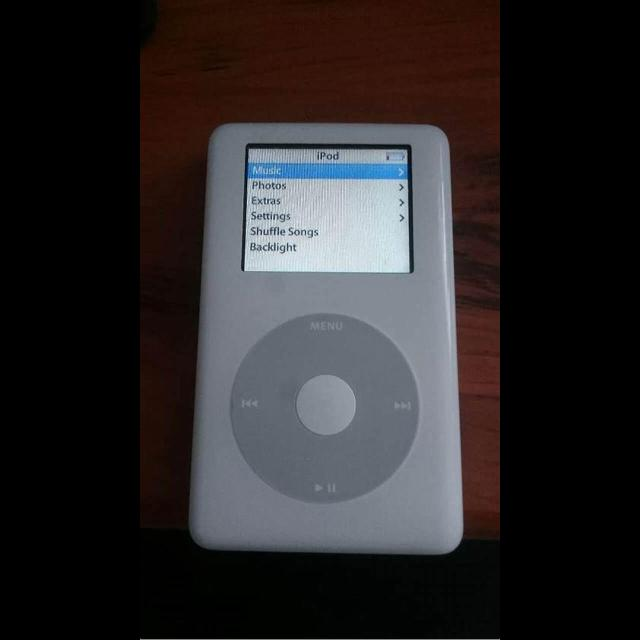Music-Player: (168, 107, 476, 571)
